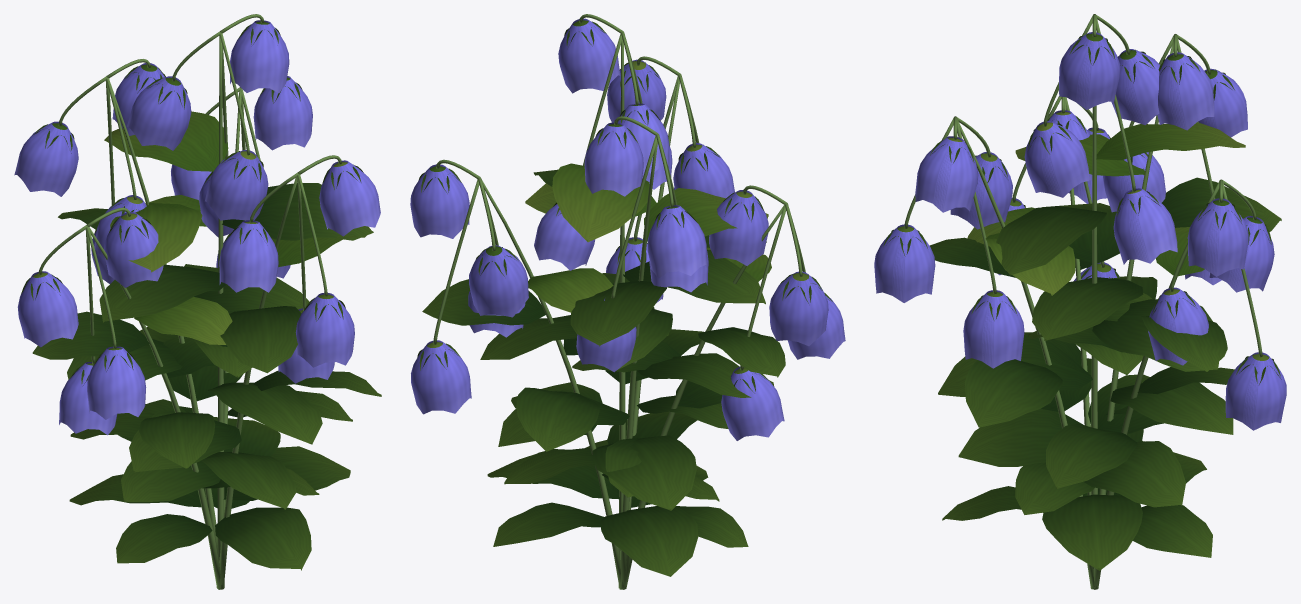
Rendered from bellflower-10-lod.glb.
3 views of the same model, side by side, from view 1: azimuth 30°, elevation 25°; view 2: azimuth 150°, elevation 25°; view 3: azimuth 270°, elevation 25° (orthographic). The views are drawn at different scales.
Visible parts, largest first — view 1: bellflower_stage_10_leaf_veins.019, bellflower_stage_10_bellflower_petal.019, bellflower_stage_10_young_leaf.019, bellflower_stage_10_stem_fibres.019; view 2: bellflower_stage_10_leaf_veins.019, bellflower_stage_10_bellflower_petal.019, bellflower_stage_10_stem_fibres.019, bellflower_stage_10_young_leaf.019; view 3: bellflower_stage_10_leaf_veins.019, bellflower_stage_10_bellflower_petal.019, bellflower_stage_10_young_leaf.019, bellflower_stage_10_stem_fibres.019.
Boxes of the visible parts, <box> form: bellflower_stage_10_leaf_veins.019: <box>21,24,381,570</box>; bellflower_stage_10_bellflower_petal.019: <box>14,20,380,435</box>; bellflower_stage_10_young_leaf.019: <box>30,21,366,368</box>; bellflower_stage_10_stem_fibres.019: <box>38,14,341,589</box>; bellflower_stage_10_leaf_veins.019: <box>417,21,832,576</box>; bellflower_stage_10_bellflower_petal.019: <box>410,18,845,440</box>; bellflower_stage_10_stem_fibres.019: <box>433,14,805,589</box>; bellflower_stage_10_young_leaf.019: <box>426,20,811,379</box>; bellflower_stage_10_leaf_veins.019: <box>883,33,1281,570</box>; bellflower_stage_10_bellflower_petal.019: <box>874,32,1286,430</box>; bellflower_stage_10_young_leaf.019: <box>897,33,1269,366</box>; bellflower_stage_10_stem_fibres.019: <box>904,14,1262,589</box>.
Size of the model in its own units: 0.4158 by 0.6453 by 0.4136.
4 materials, 3 textured.
